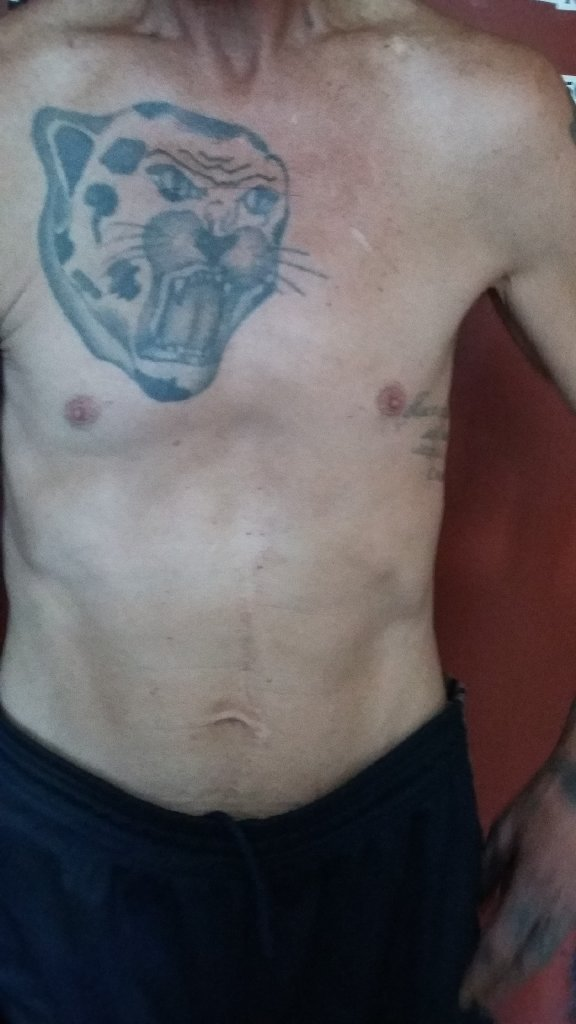tatu8_kot: (8, 85, 339, 434)
